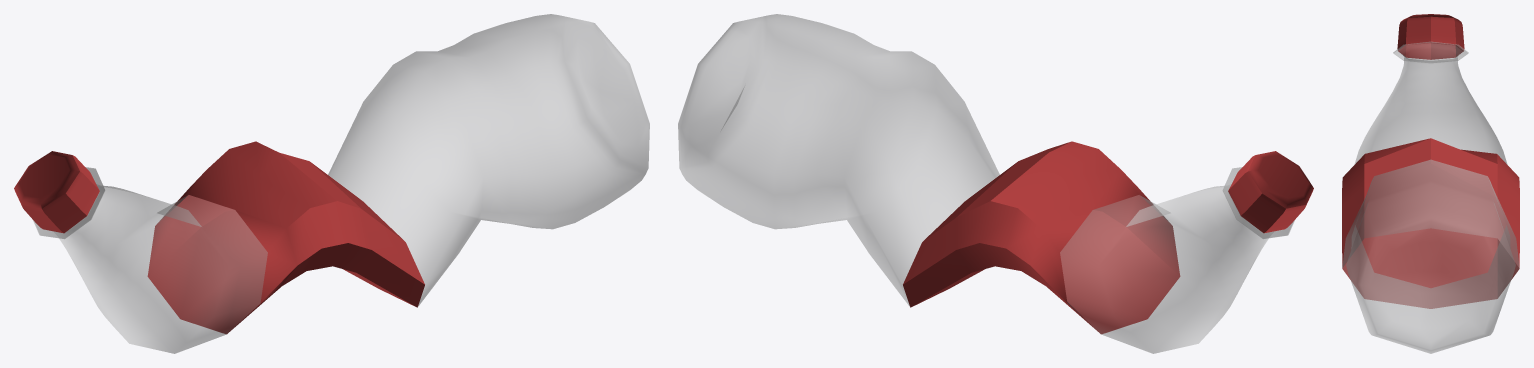
File: CrushedBottle.fbx
3 renders of one model, left to right at view 1: azimuth 30°, elevation 25°; view 2: azimuth 150°, elevation 25°; view 3: azimuth 270°, elevation 25°, orthographic. The views are drawn at different scales.
Visible parts, largest first — view 1: pCube5; view 2: pCube5; view 3: pCube5.
Part boxes in pixels (bbox=[...]): pCube5: bbox=[14, 14, 649, 353]; pCube5: bbox=[678, 14, 1313, 353]; pCube5: bbox=[1342, 14, 1519, 353].
Size of the model in its own units: 9.92 by 3.49 by 3.13.
